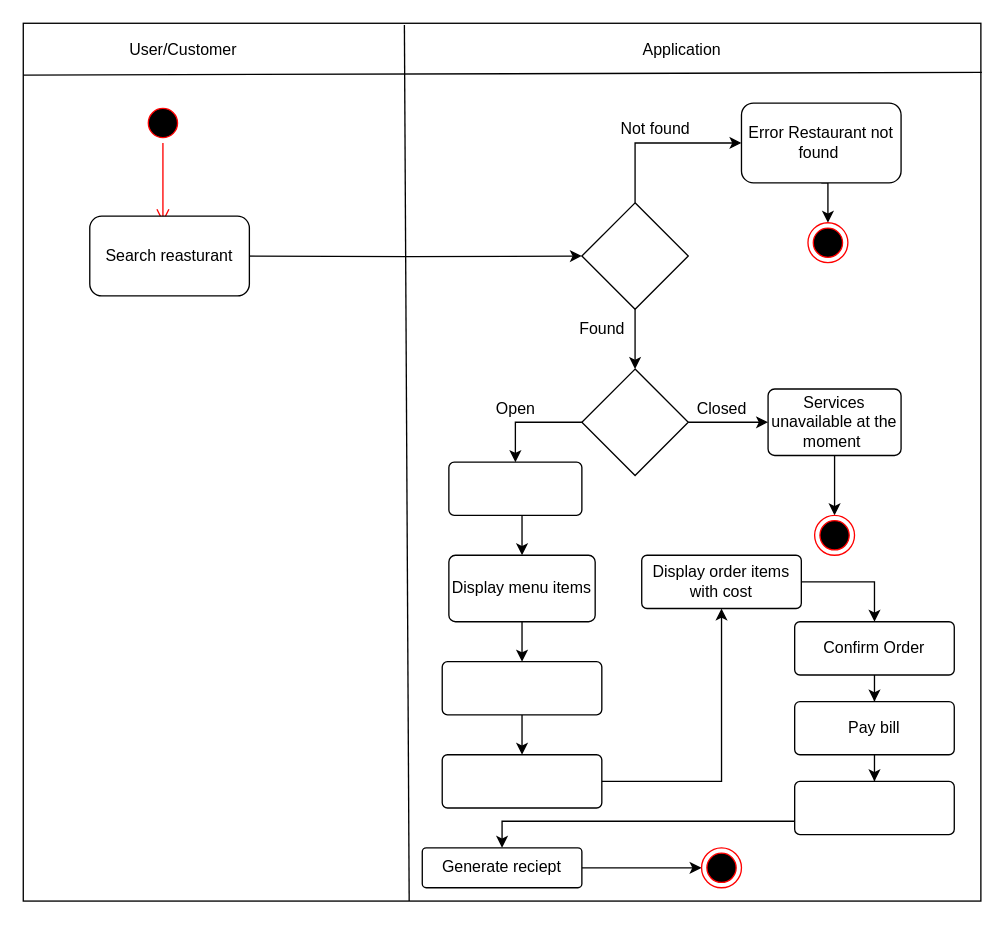
This 1007x926 diagram has some shape labels left out. Here are the shapes that lost their labels. From the top down, the box of each, then its label:
(448, 461, 582, 515): Get Menu Items
(441, 660, 602, 715): Order items
(441, 753, 602, 808): Save order items
(793, 780, 954, 835): Receive bill amount
